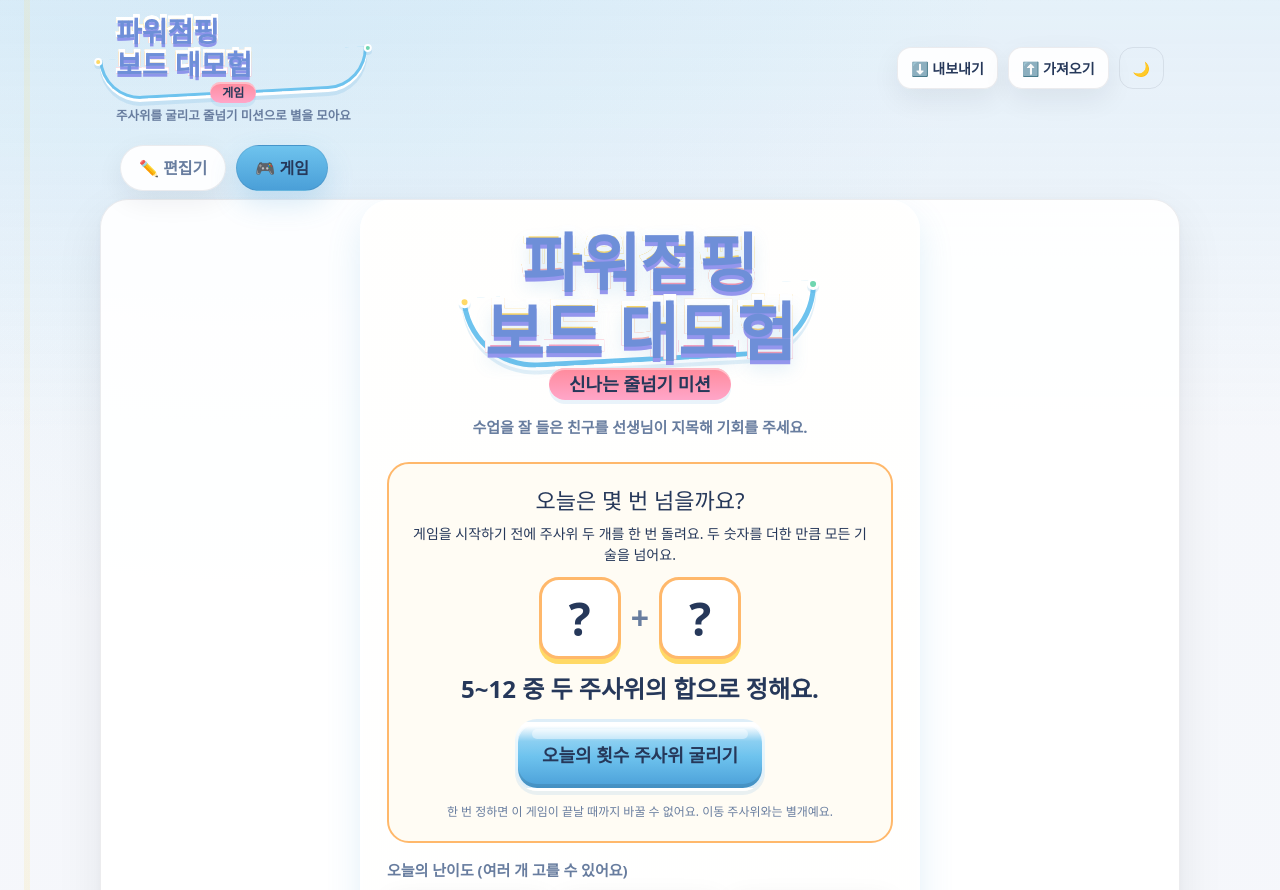
Test: MissionTab tab count pill (via App) › keeps the full mission count in the tab pill even when filtered to empty
Note: D-10: the app opens in 게임 mode by default — switch to the 편집기 first.
Step 1. Click the button "✏️ 편집기" → point(173, 168), box [120,145,226,191]
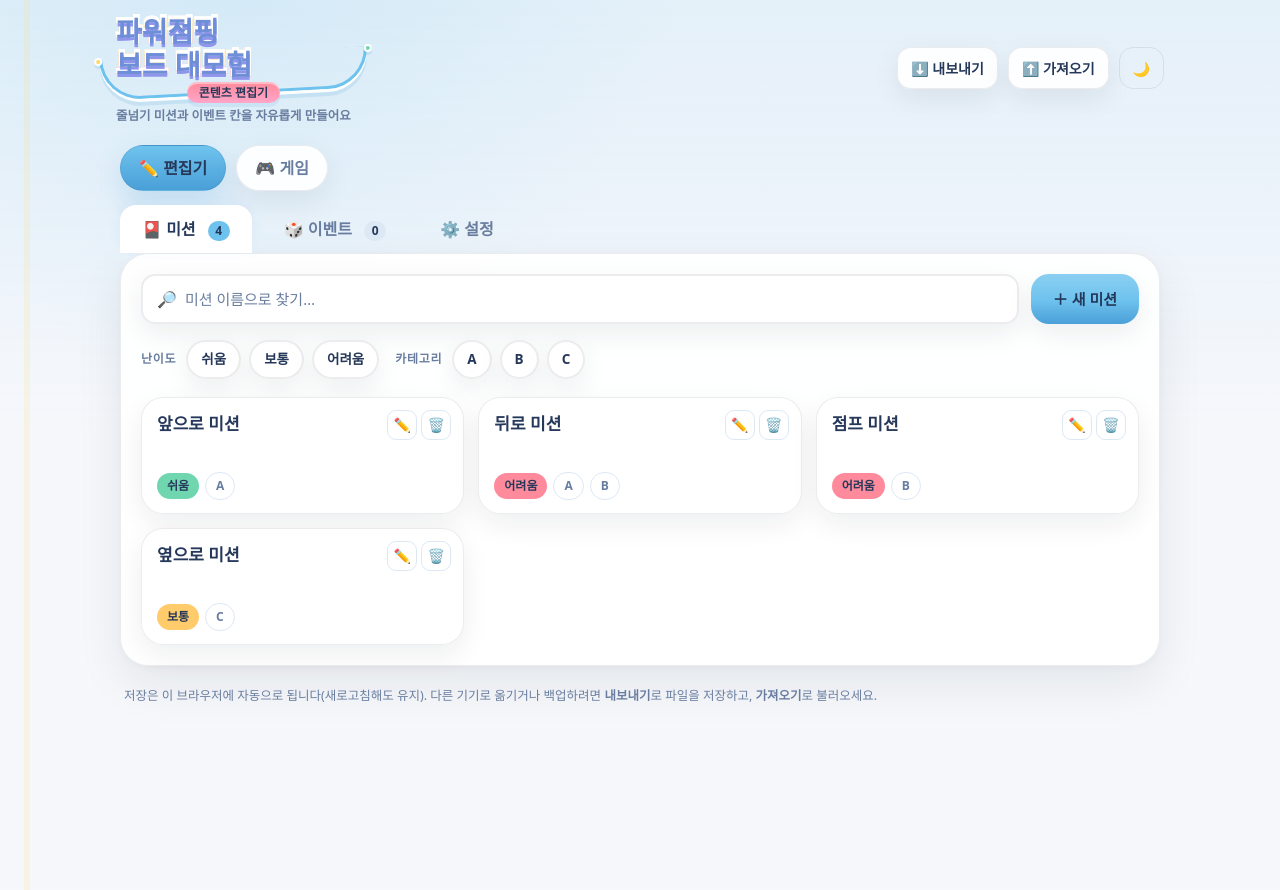
Step 2. Type "zzzz" into the field labelled "미션 이름으로 찾기" → point(594, 299), box [185,288,1003,310]
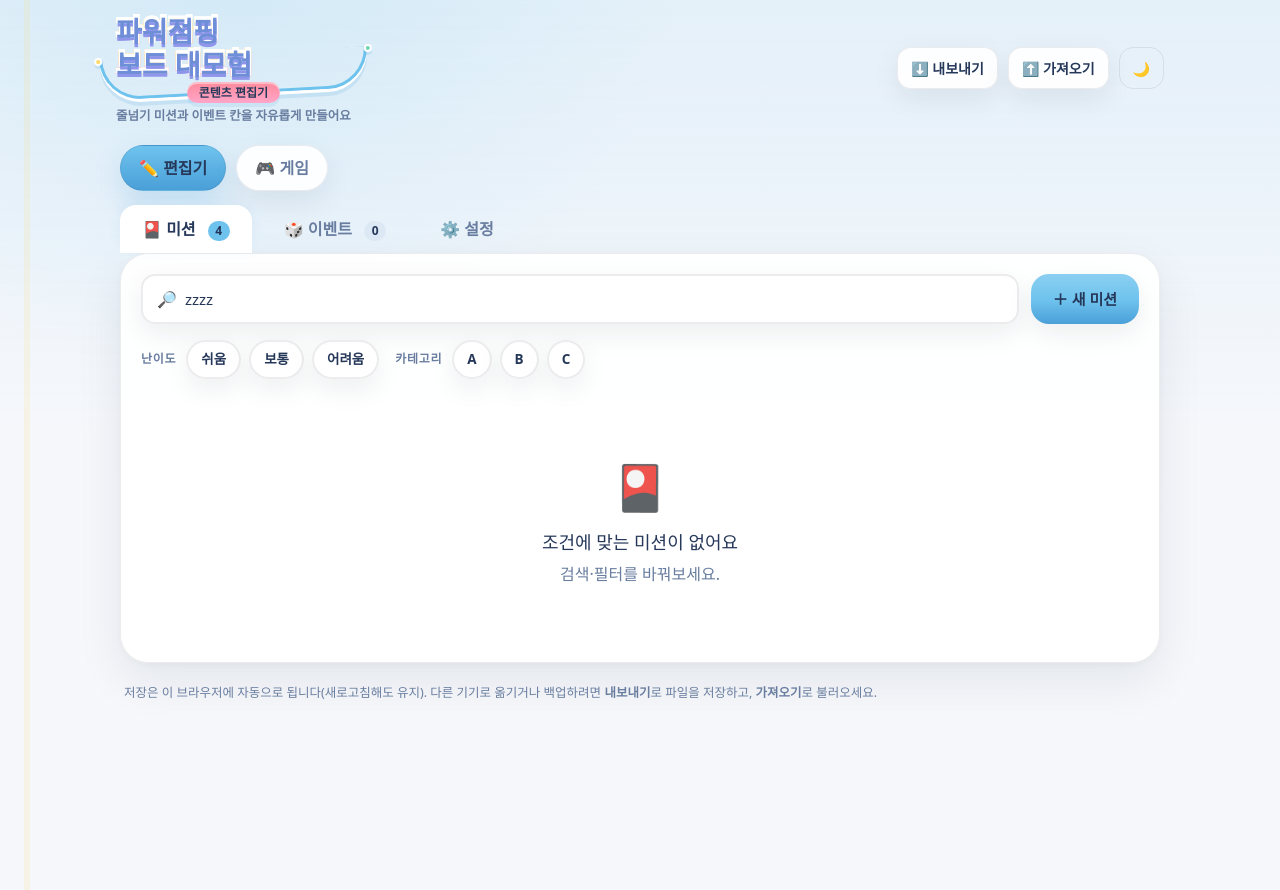
Result: the text "4" is shown at [208,221,230,241]
Result: the heading "조건에 맞는 미션이 없어요" is shown at [542,530,738,554]
